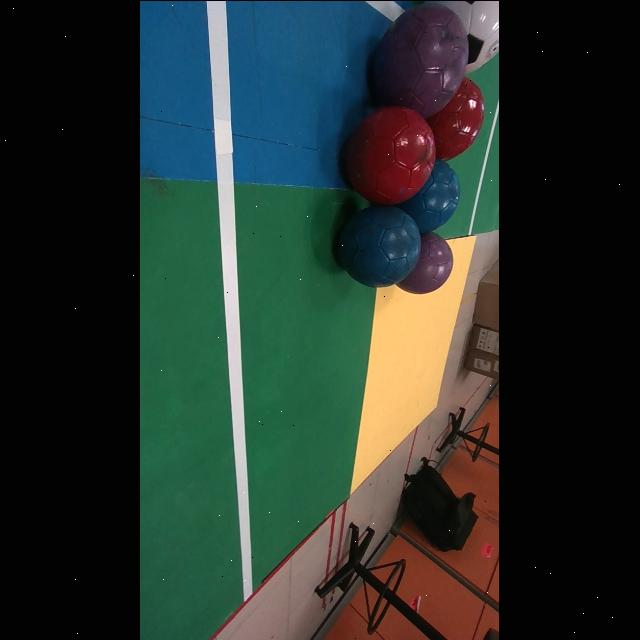B: (339, 205, 422, 287), (398, 159, 461, 232)
P: (375, 2, 469, 117), (398, 231, 454, 293)
R: (347, 106, 437, 204), (427, 76, 486, 161)
